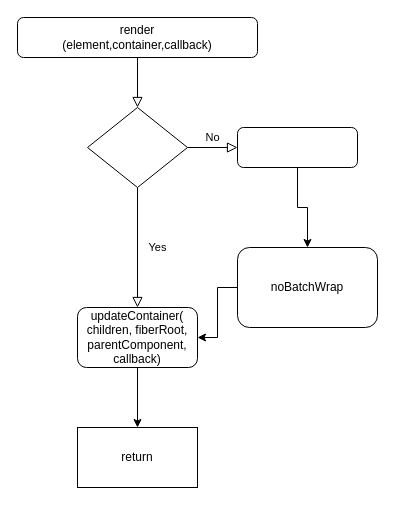
This 395x505 diagram has some shape labels left out. The shapes that lost their labels are listed below. From the top down, each one's centre as x and y in pixels, then its label:
(x=137, y=147): exist(root)
(x=297, y=147): create root,
